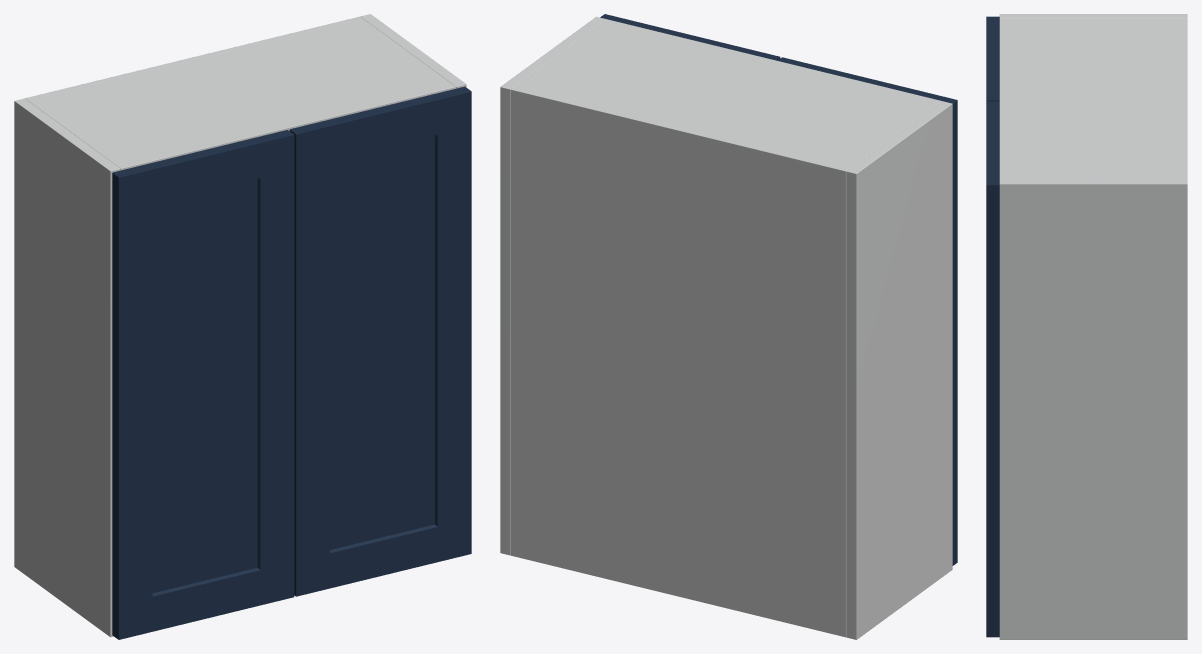
File: oppein-ply-bss-w2430.glb
3 views of the same model, side by side, from view 1: azimuth 30°, elevation 25°; view 2: azimuth 150°, elevation 25°; view 3: azimuth 270°, elevation 25° (orthographic). The views are drawn at different scales.
Parts seen in each view (by area): view 1: Door, Door.001, Cabinet side, Cabinet top, Cabinet back, Cabinet side.001; view 2: Cabinet back, Cabinet side, Cabinet top, Cabinet side.001, Door, Door.001; view 3: Cabinet side.001, Cabinet top, Door.001, Cabinet back, Door, Cabinet side.
Boxes of the visible parts, <box> form: Door: <box>112,130,294,639</box>; Door.001: <box>289,86,471,596</box>; Cabinet side: <box>14,98,120,637</box>; Cabinet top: <box>25,19,455,170</box>; Cabinet back: <box>25,16,363,100</box>; Cabinet side.001: <box>360,14,466,88</box>; Cabinet back: <box>511,87,848,636</box>; Cabinet side: <box>846,101,952,639</box>; Cabinet top: <box>511,19,941,181</box>; Cabinet side.001: <box>500,16,606,555</box>; Door: <box>777,57,957,565</box>; Door.001: <box>600,14,780,60</box>; Cabinet side.001: <box>999,179,1187,639</box>; Cabinet top: <box>999,19,1187,178</box>; Door.001: <box>986,101,999,637</box>; Cabinet back: <box>1180,19,1187,178</box>; Door: <box>986,16,999,101</box>; Cabinet side: <box>999,14,1187,18</box>.
Bounding box in the file's own units: 0.6096 × 0.762 × 0.3048.
